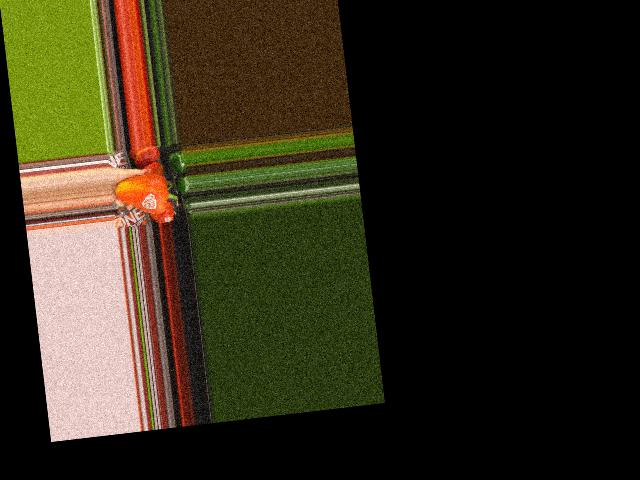bell_pepper: (114, 166, 180, 219)
